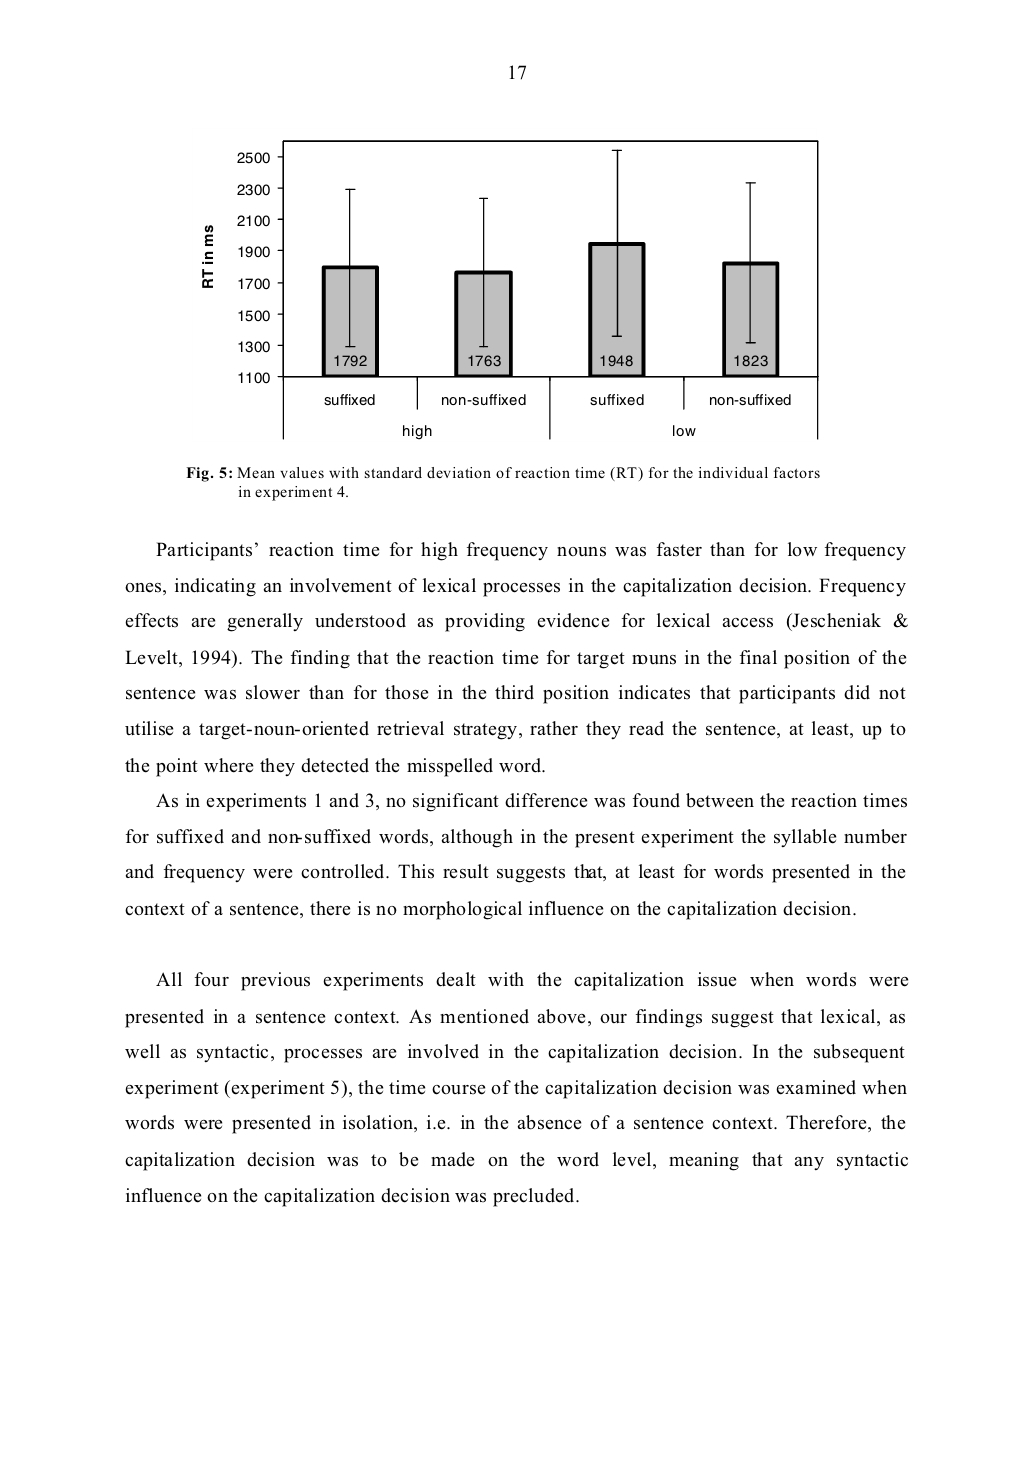figure: (202, 139, 818, 440)
